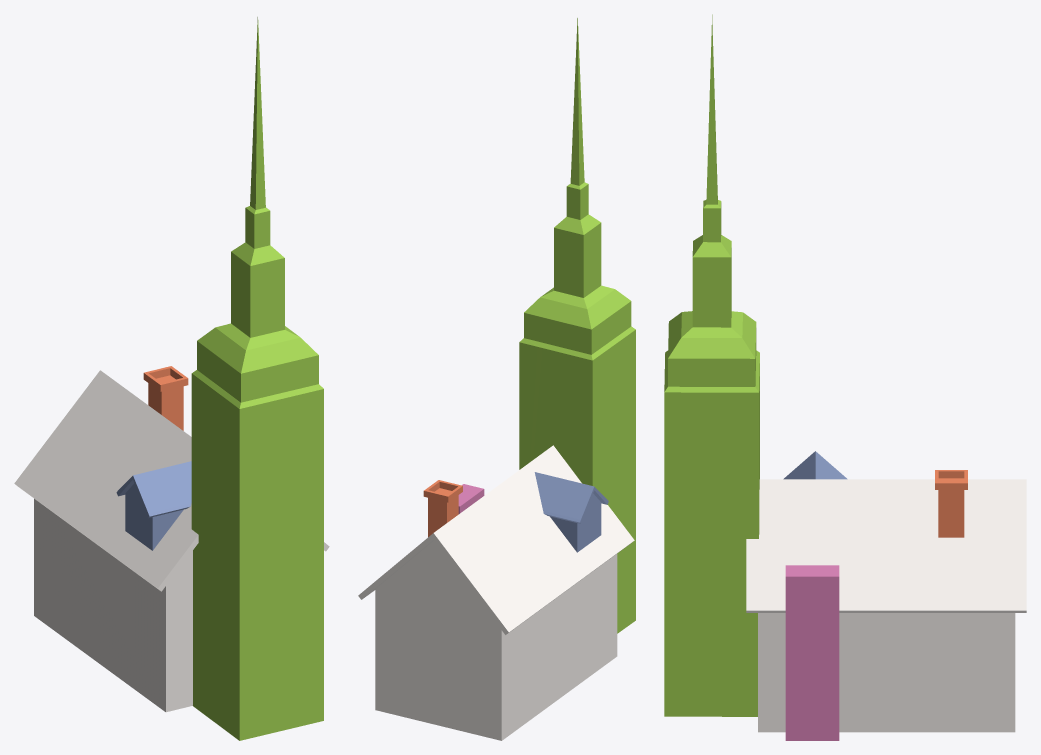
The model's file is co_legenda_custom_props_v2.glb.
3 views of the same model, side by side, from view 1: azimuth 30°, elevation 25°; view 2: azimuth 150°, elevation 25°; view 3: azimuth 270°, elevation 25° (orthographic). The views are drawn at different scales.
Visible parts, largest first — view 1: vez_legenda_obj, hlavni_cast_legenda_obj, stresni_nastavba_legenda_obj, komin_legenda_mesh; view 2: hlavni_cast_legenda_obj, vez_legenda_obj, stresni_nastavba_legenda_obj, komin_legenda_mesh, vytahy_klimatizace_obj; view 3: hlavni_cast_legenda_obj, vez_legenda_obj, vytahy_klimatizace_obj, komin_legenda_mesh, stresni_nastavba_legenda_obj.
Part boxes in pixels (box(x1,y1,x2,y2)): vez_legenda_obj: box(191, 17, 323, 740); hlavni_cast_legenda_obj: box(14, 370, 329, 712); stresni_nastavba_legenda_obj: box(116, 461, 191, 550); komin_legenda_mesh: box(143, 366, 188, 430); hlavni_cast_legenda_obj: box(358, 445, 634, 740); vez_legenda_obj: box(519, 18, 635, 633); stresni_nastavba_legenda_obj: box(534, 472, 608, 552); komin_legenda_mesh: box(423, 480, 462, 536); vytahy_klimatizace_obj: box(458, 484, 484, 513); hlavni_cast_legenda_obj: box(746, 479, 1026, 732); vez_legenda_obj: box(664, 14, 759, 716); vytahy_klimatizace_obj: box(785, 565, 839, 740); komin_legenda_mesh: box(935, 470, 967, 537); stresni_nastavba_legenda_obj: box(783, 451, 847, 479).
Size of the model in its own units: 0.1462 by 0.5579 by 0.2683.
